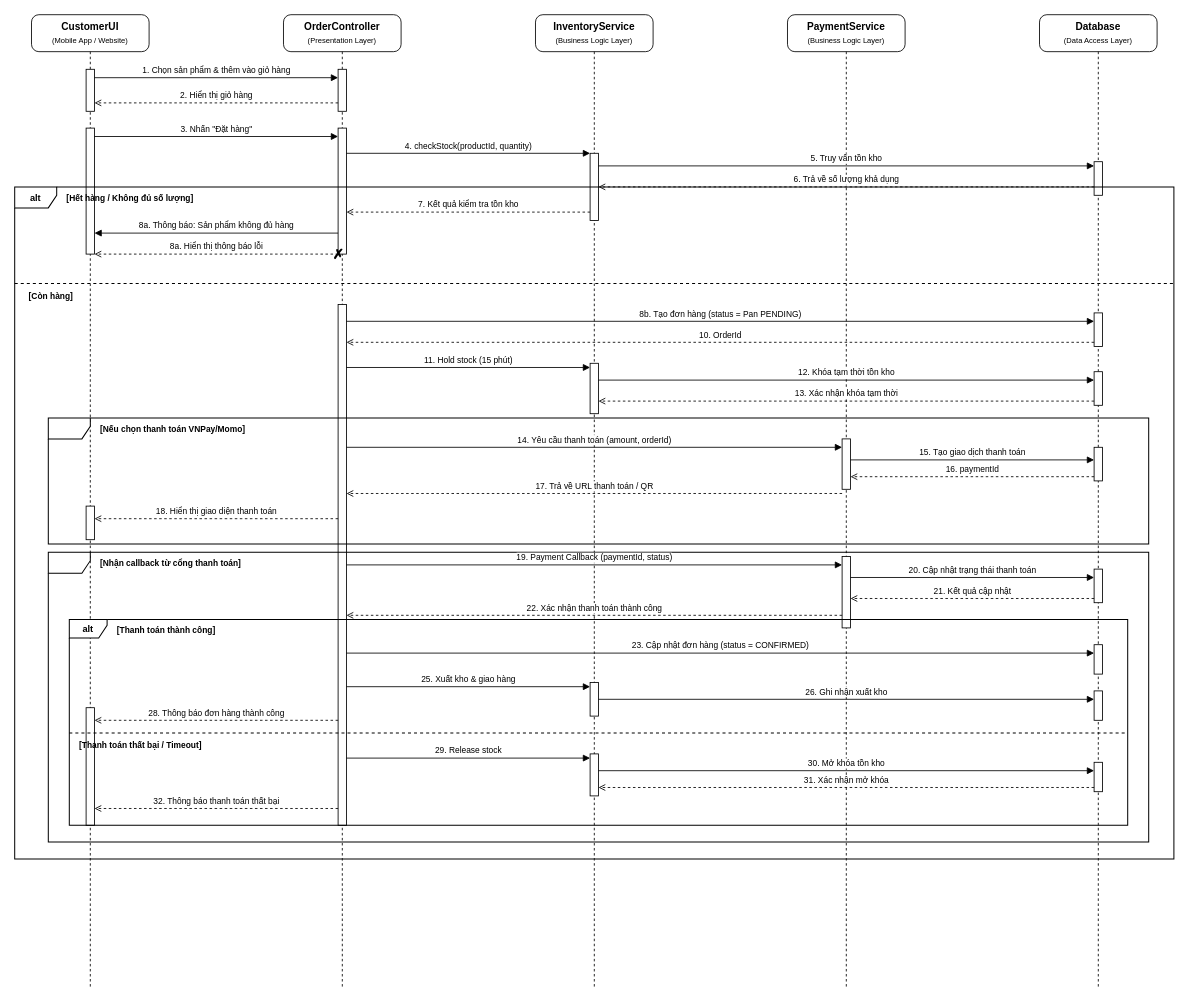
Some shapes in this 1190 by 1004 pixel diagram are drawn without their labels. The shapes that lost their labels are listed below. From the top down, each one's box as (x1, y1, x2, y2) in pixels, then its label:
(47, 417, 1149, 544): loop
(47, 551, 1149, 842): opt
